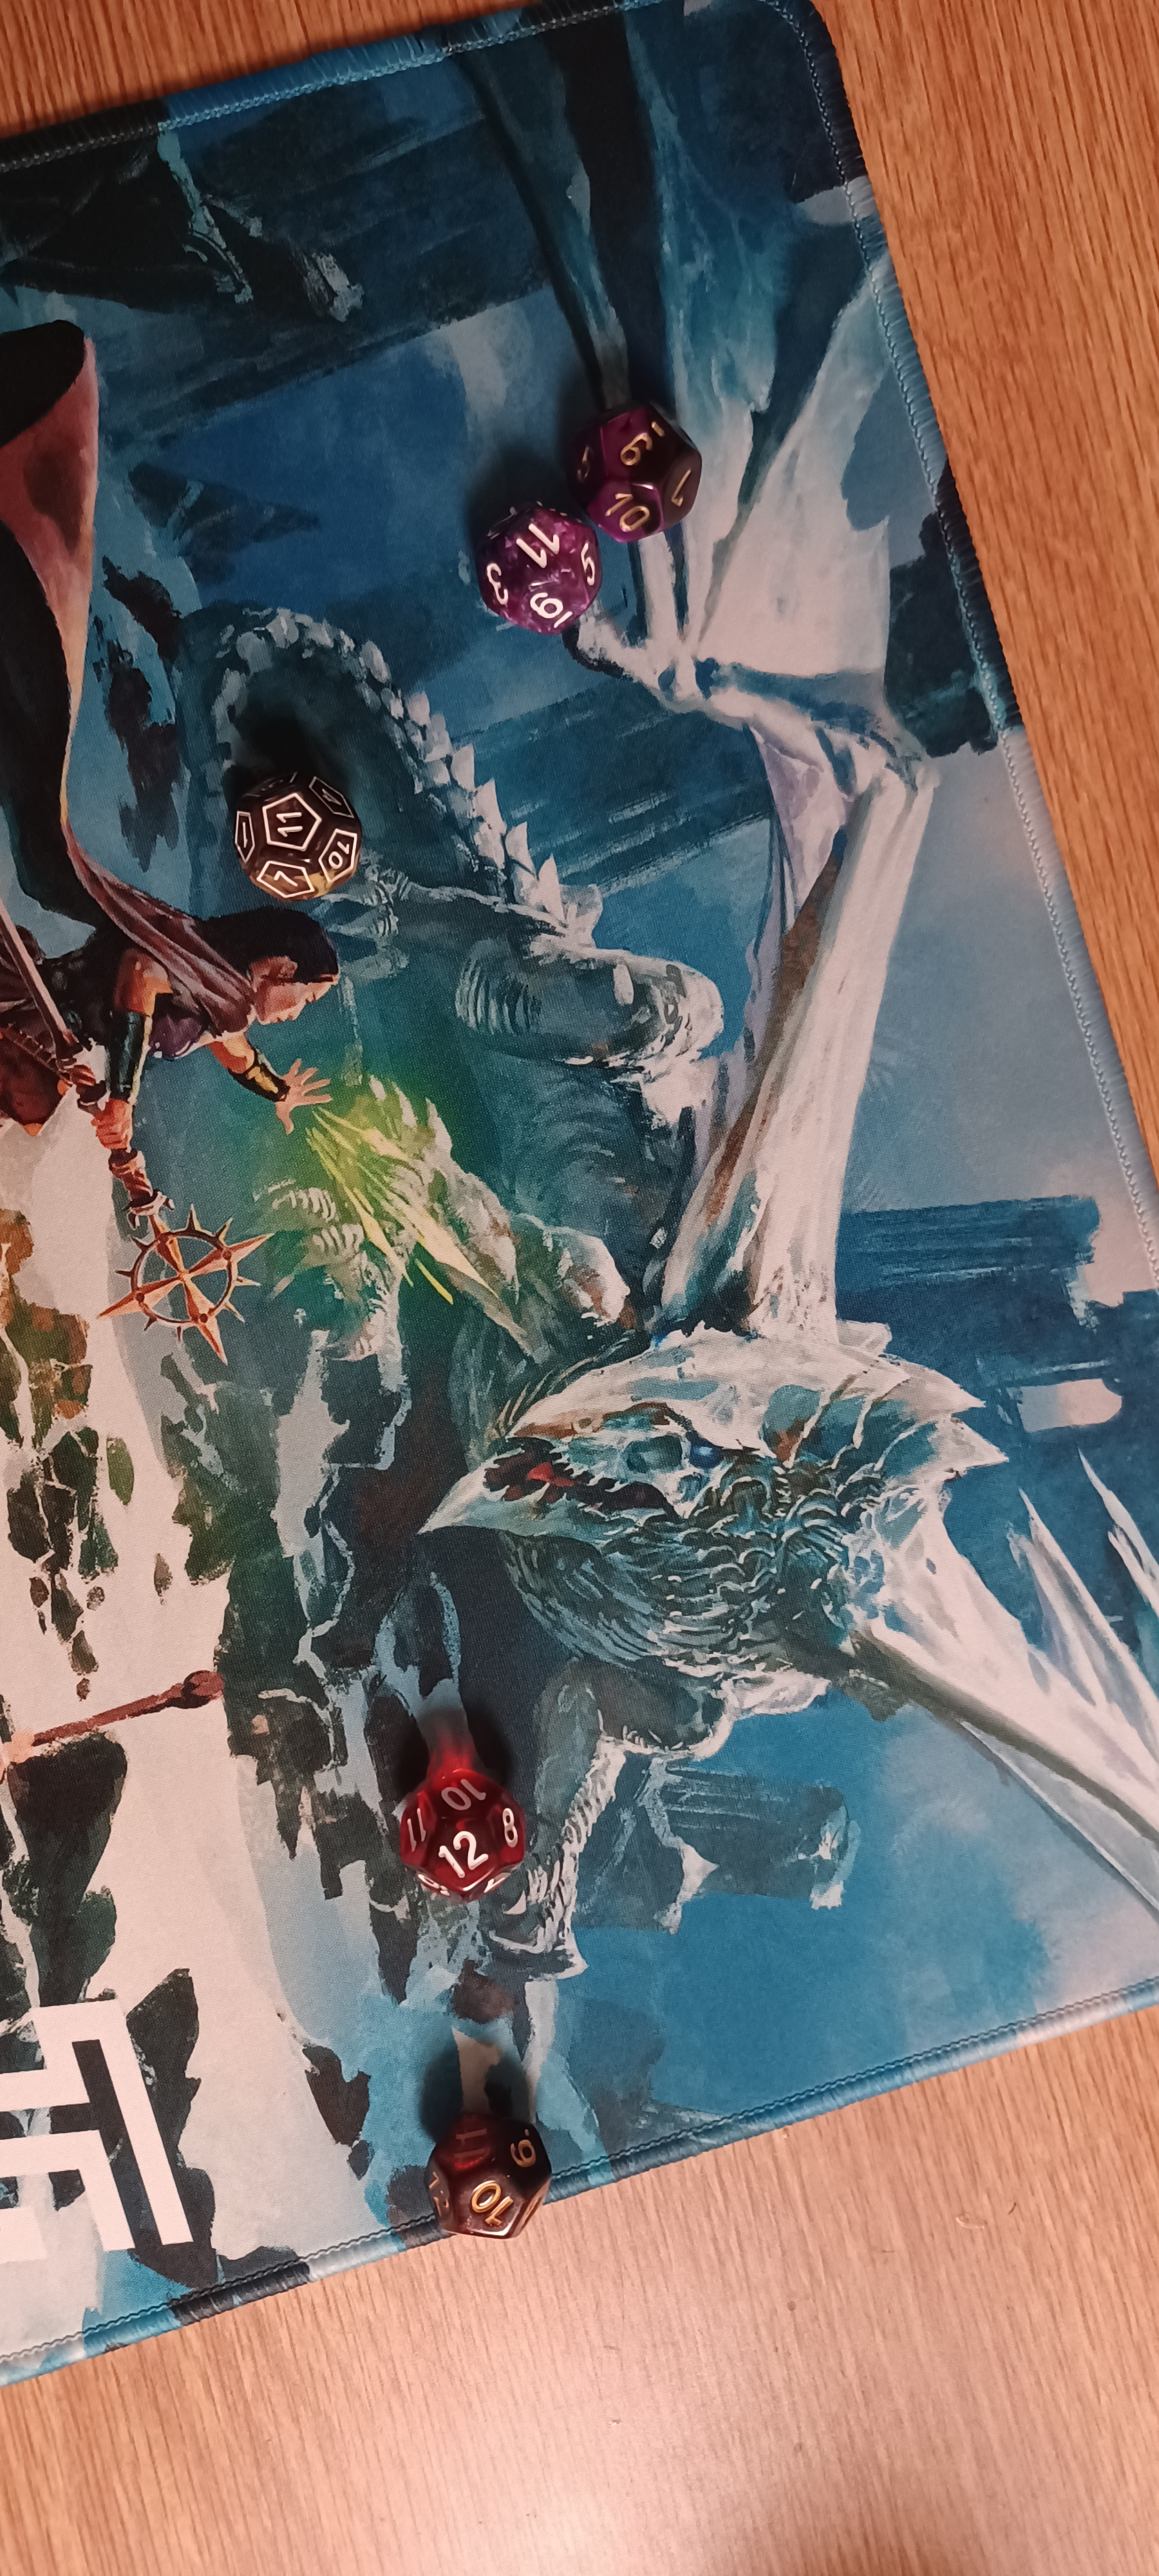eleven: (448, 475, 629, 665), (181, 752, 391, 907)
nine: (561, 398, 722, 568)
ten: (384, 2101, 581, 2259)
twelve: (361, 1732, 543, 1929)
